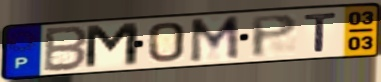0: (145, 21, 188, 64)
B: (41, 25, 91, 74)
M: (82, 21, 142, 72), (187, 14, 241, 65)
P: (249, 13, 300, 59)
T: (302, 11, 340, 53)
